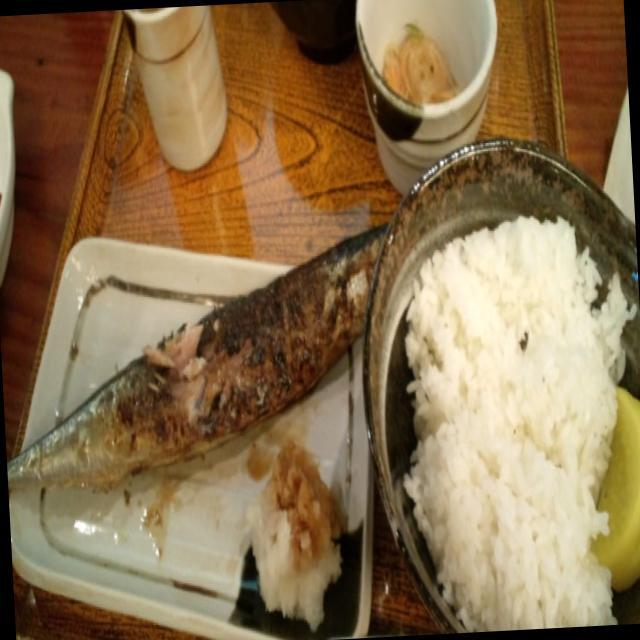Rice: (400, 210, 621, 629)
